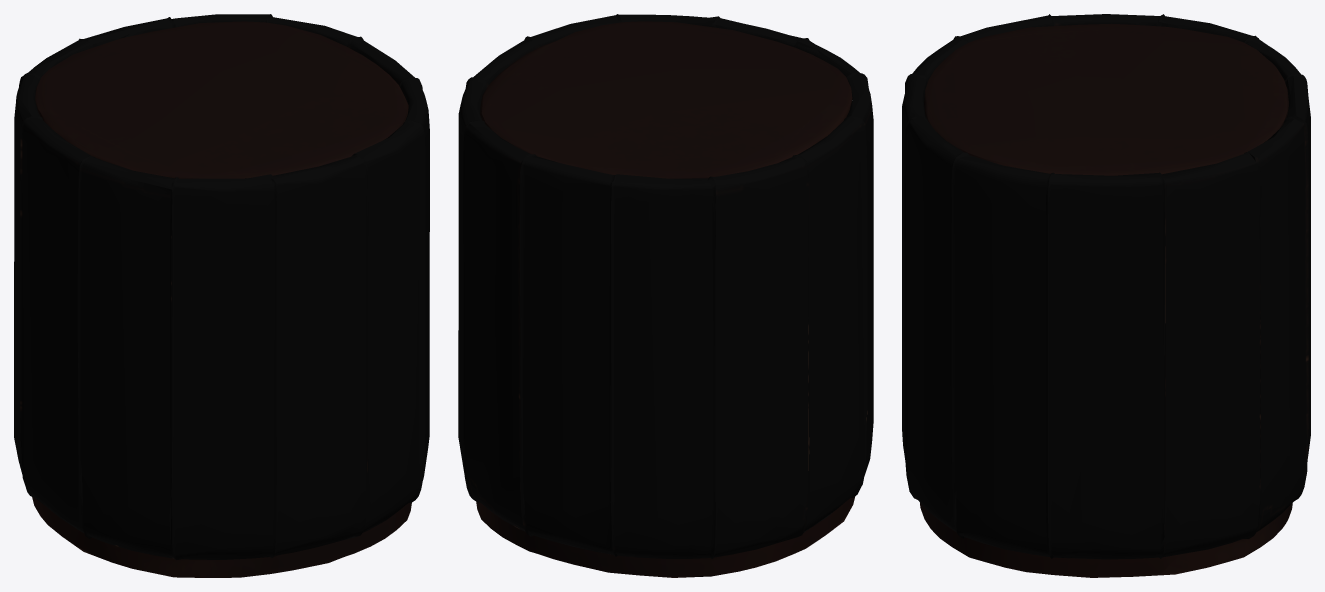
Rendered from sofa_ottoman_74d4e4ca-8bbb-5f06-920a-e5377c81b75e.glb.
The picture shows the model from 3 angles, left to right: view 1: azimuth 30°, elevation 25°; view 2: azimuth 150°, elevation 25°; view 3: azimuth 270°, elevation 25°; orthographic projection.
Visible parts, largest first — view 1: raw_model.obj; view 2: raw_model.obj; view 3: raw_model.obj.
Part boxes in pixels (bbox=[...]): raw_model.obj: bbox=[14, 14, 429, 577]; raw_model.obj: bbox=[458, 14, 873, 577]; raw_model.obj: bbox=[902, 14, 1310, 577].
Size of the model in its own units: 0.4204 by 0.4618 by 0.4219.
1 material, 1 textured.
